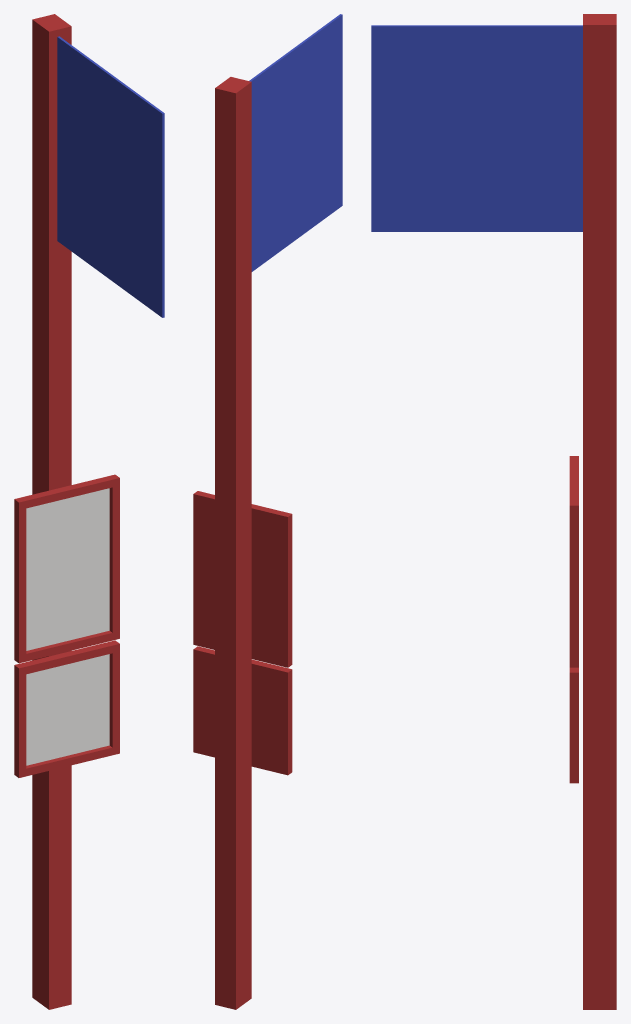
File: SM_busstop_sign.fbx
3 renders of one model, left to right at view 1: azimuth 30°, elevation 25°; view 2: azimuth 150°, elevation 25°; view 3: azimuth 270°, elevation 25°, orthographic. The views are drawn at different scales.
Parts seen in each view (by area): view 1: Box226; view 2: Box226; view 3: Box226.
Part boxes in pixels (x1=…): Box226: x1=14, y1=14, x2=164, y2=1009; Box226: x1=193, y1=14, x2=342, y2=1009; Box226: x1=371, y1=14, x2=616, y2=1009.
Size of the model in its own units: 16.69 by 34.88 by 154.
